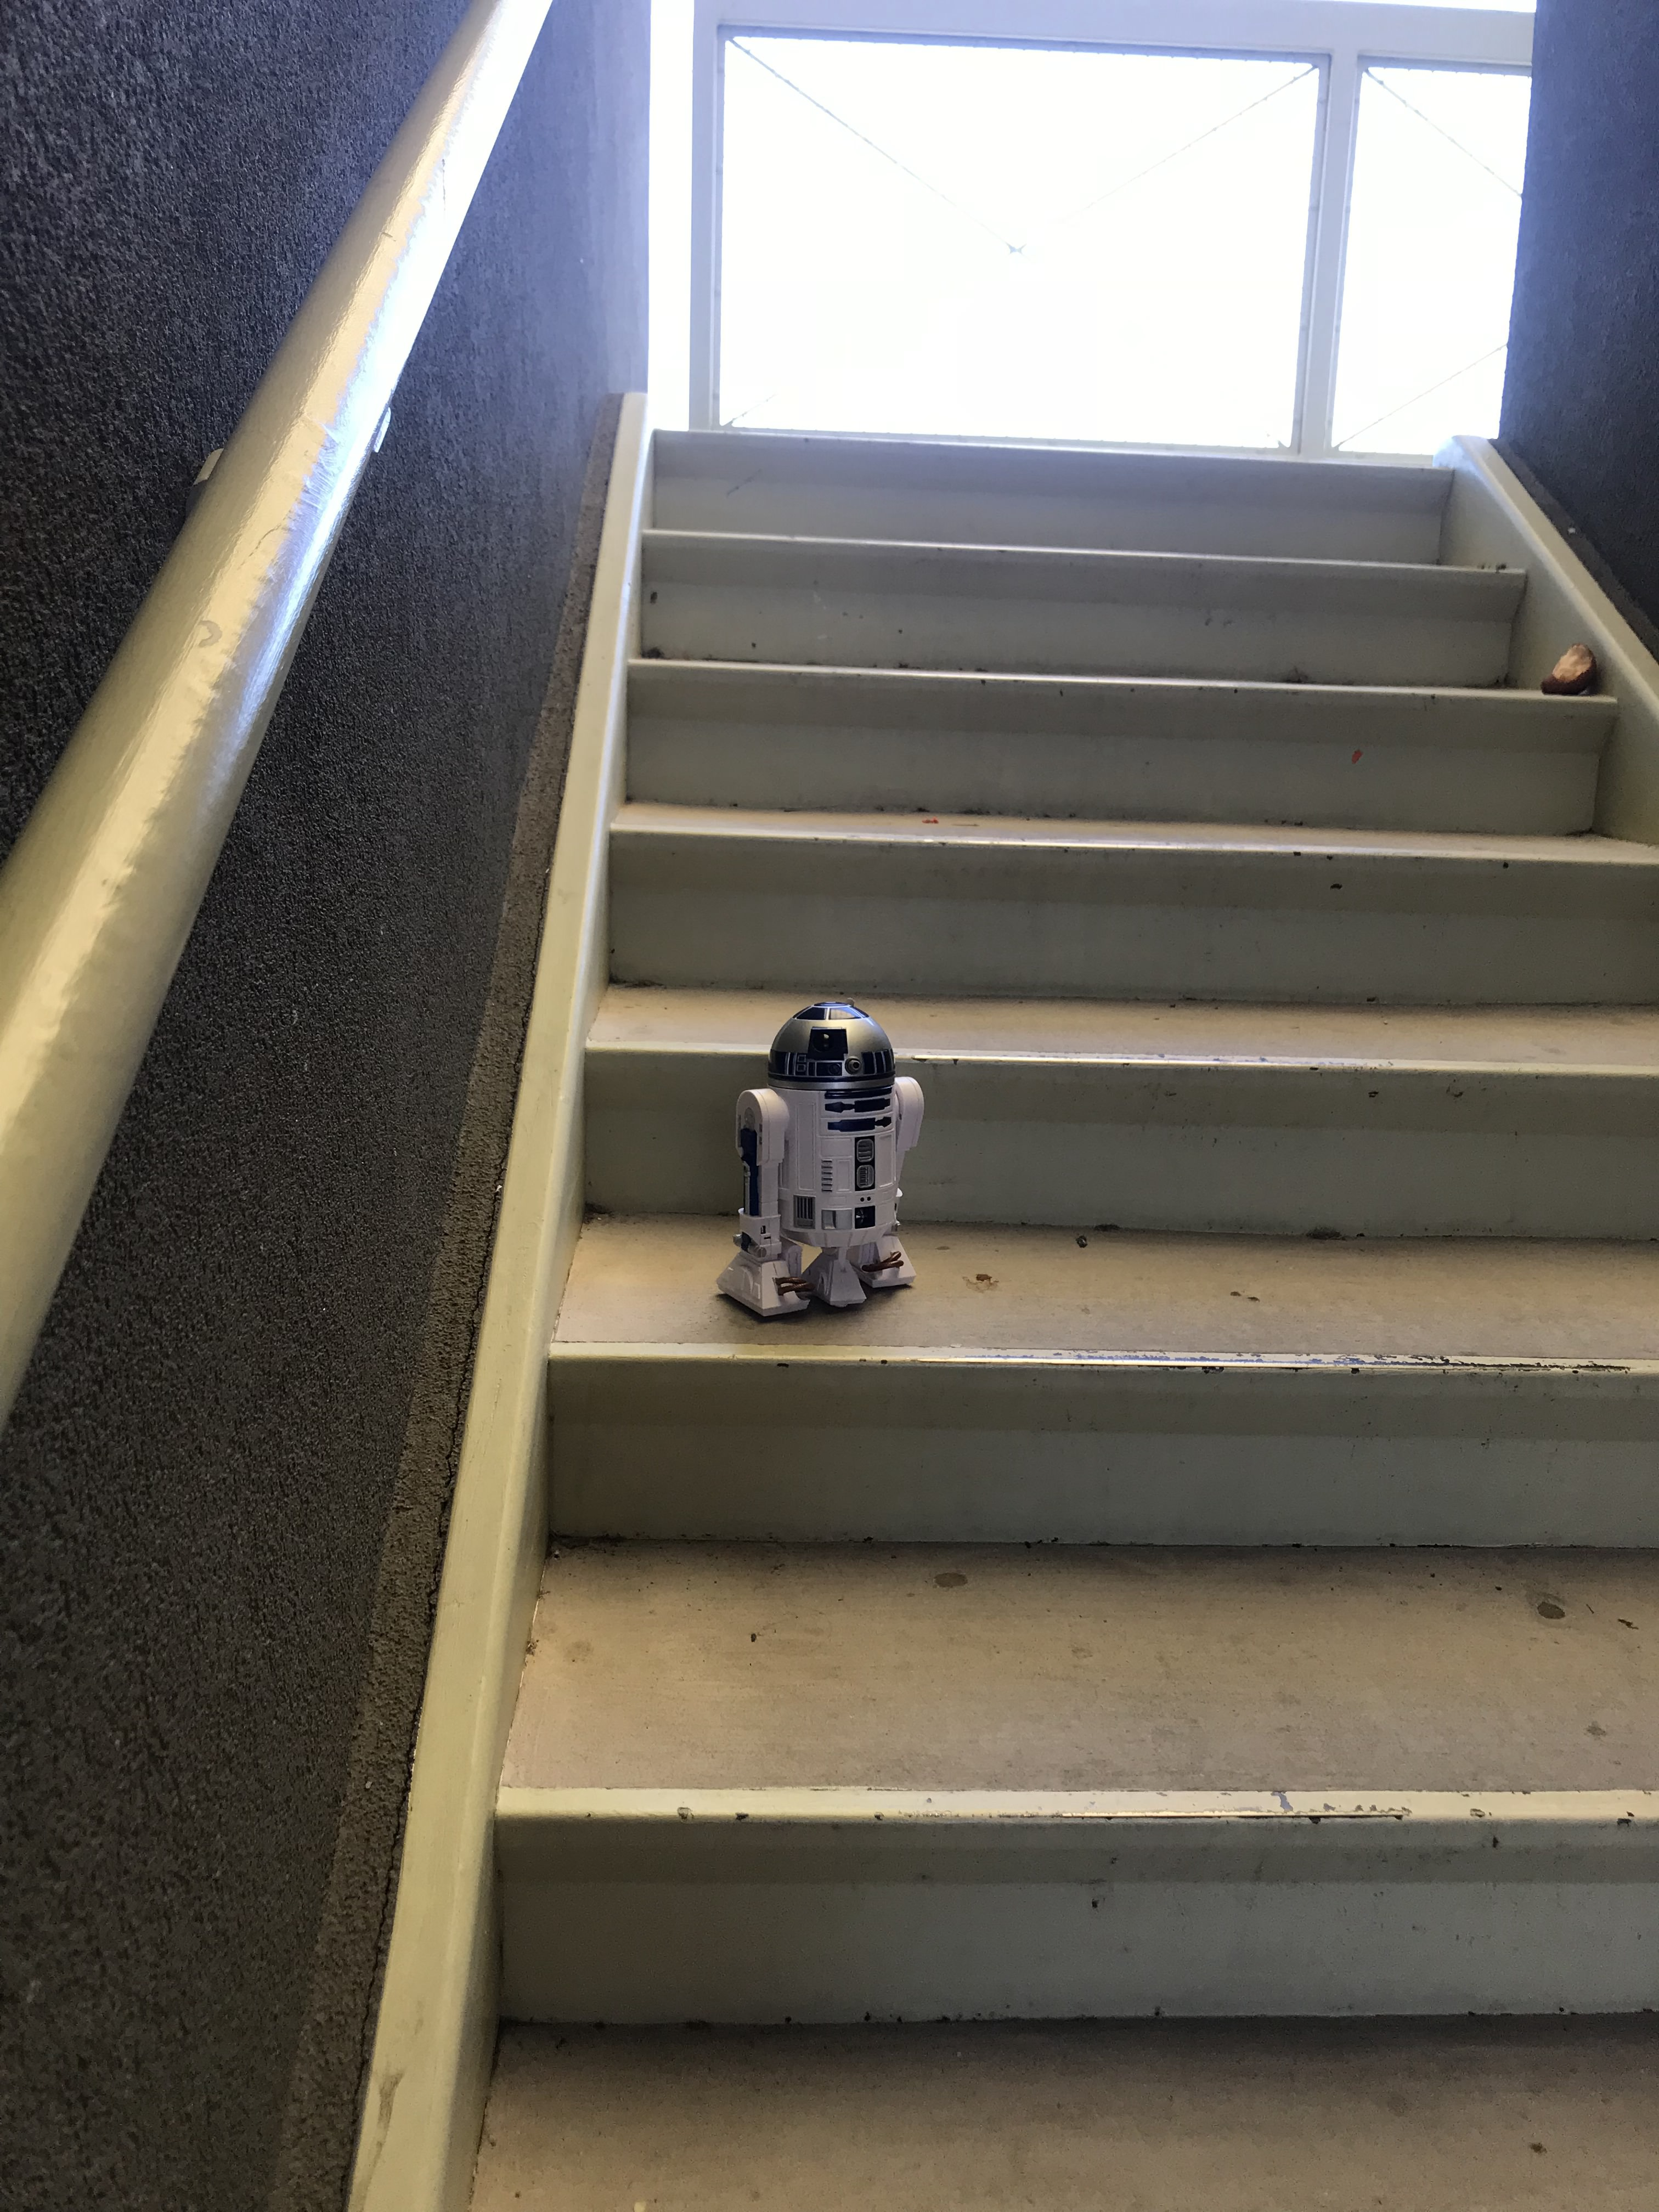r2d2: (723, 998, 929, 1318)
